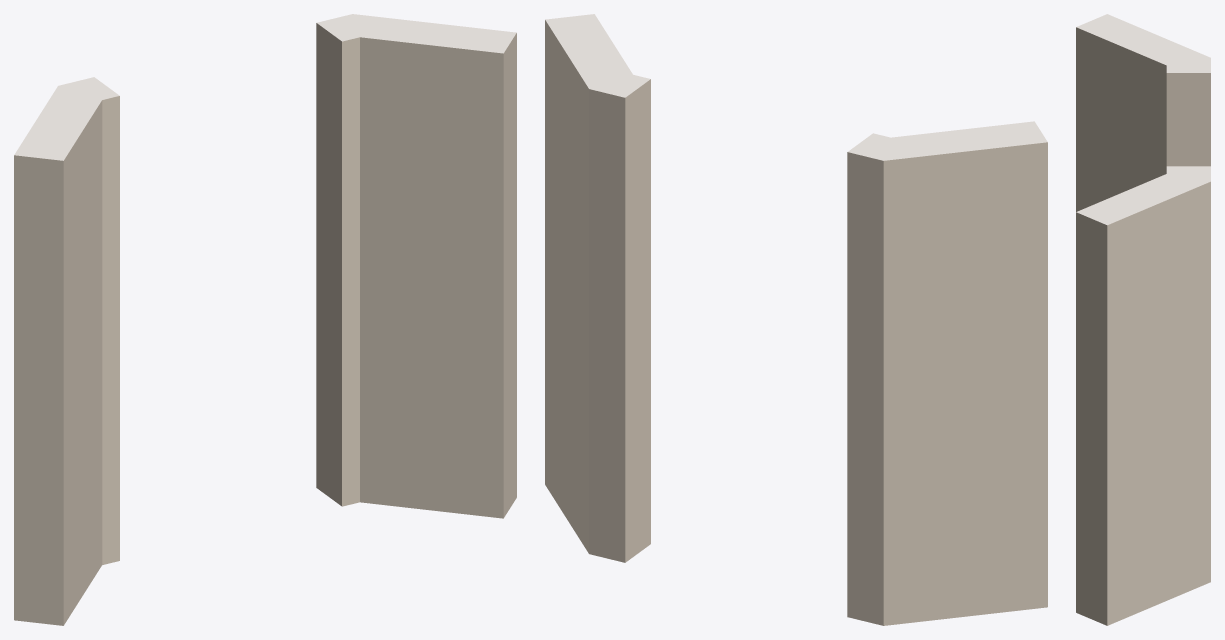
Rendered from Tower_Wall_Tall_Doorway.glb.
3 views of the same model, side by side, from view 1: azimuth 30°, elevation 25°; view 2: azimuth 150°, elevation 25°; view 3: azimuth 270°, elevation 25° (orthographic). The views are drawn at different scales.
Visible parts, largest first — view 1: Tower_Wall_Tall_Doorway; view 2: Tower_Wall_Tall_Doorway; view 3: Tower_Wall_Tall_Doorway.
Boxes of the visible parts, x1,y1,x2,y2 form: Tower_Wall_Tall_Doorway: [14, 14, 516, 625]; Tower_Wall_Tall_Doorway: [545, 14, 1047, 625]; Tower_Wall_Tall_Doorway: [1076, 14, 1210, 625].
Bounding box in the file's own units: 1.02 × 0.9 × 0.2745.
